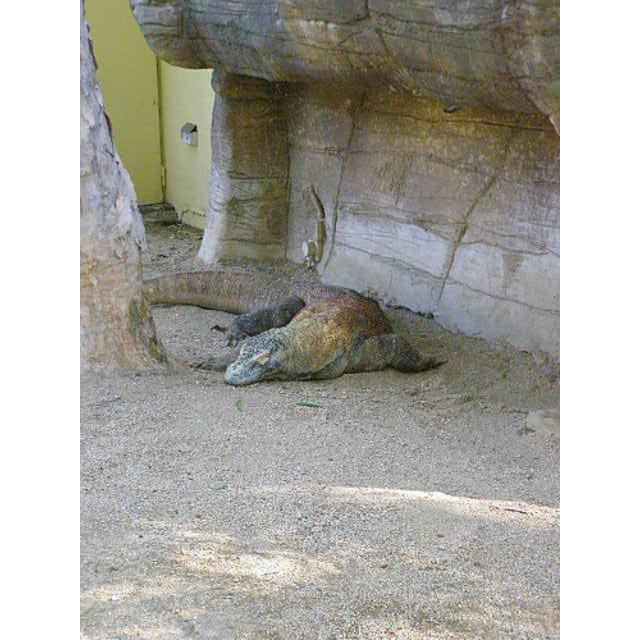KomodoDragon: (139, 268, 450, 385)
